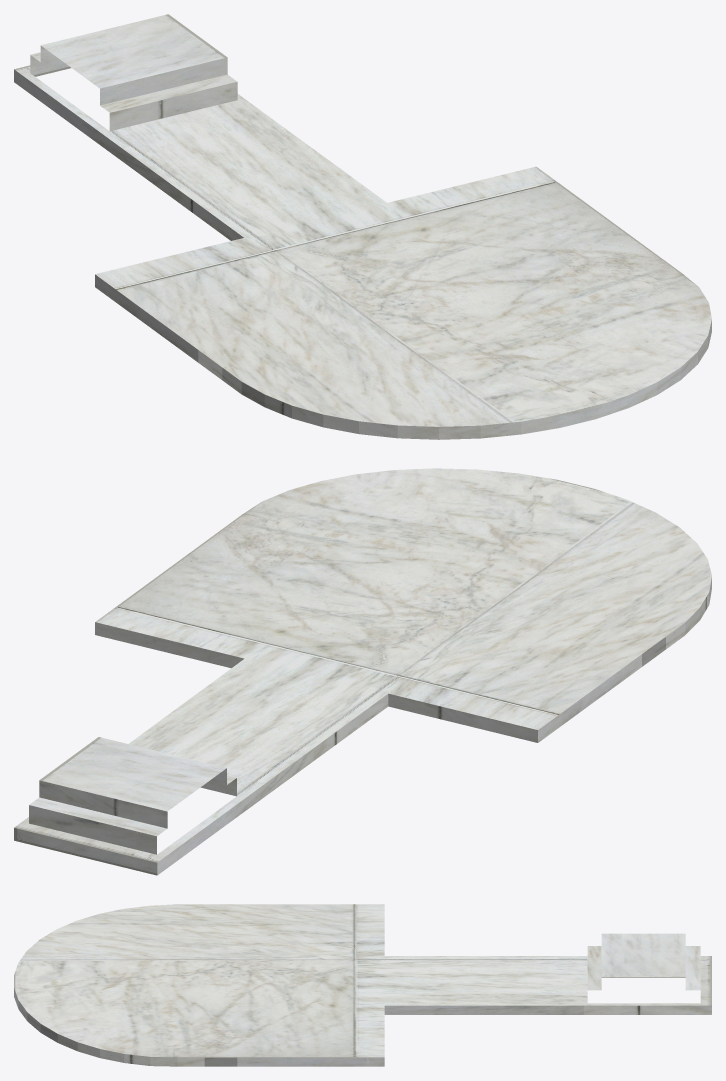
Rendered from Solya.FBX.
3 renders of one model, top to bottom at view 1: azimuth 30°, elevation 25°; view 2: azimuth 150°, elevation 25°; view 3: azimuth 270°, elevation 25°, orthographic. The views are drawn at different scales.
Parts seen in each view (by area): view 1: Object020; view 2: Object020; view 3: Object020.
Part boxes in pixels (x1,y1,x2,y2): Object020: [14, 14, 711, 439]; Object020: [14, 468, 711, 875]; Object020: [14, 904, 711, 1066].
Bounding box in the file's own units: 843 × 88.25 × 1624.
Materials: 1 (1 with a texture image).
